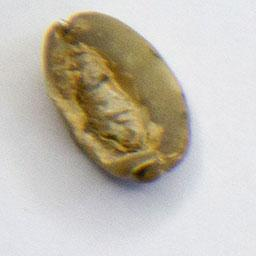defect: (39, 8, 196, 188)
